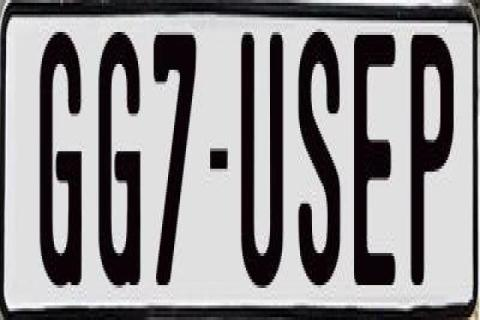0: (152, 32, 200, 285)
E: (350, 29, 394, 279)
G: (38, 29, 82, 303), (98, 32, 144, 291)
P: (408, 29, 451, 297)
S: (298, 26, 346, 294)
U: (240, 23, 284, 285)
